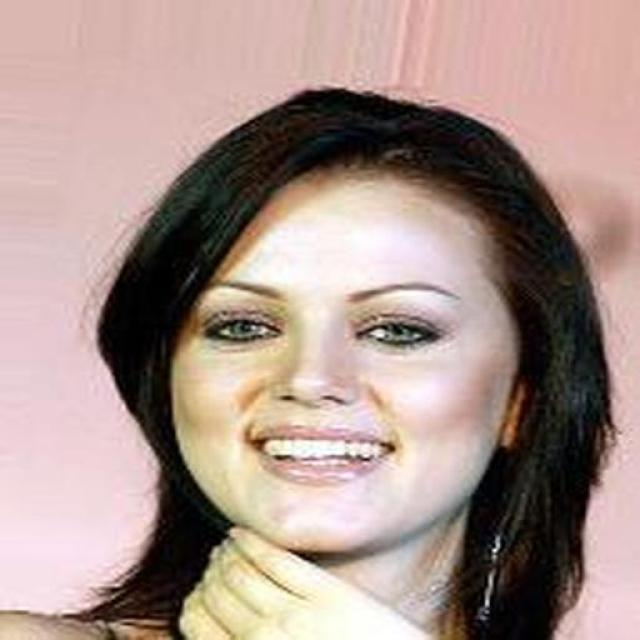bareface: (169, 113, 566, 552)
